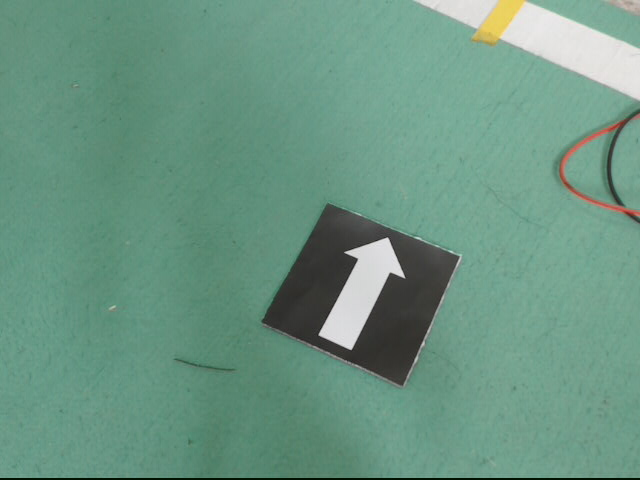straight: (261, 205, 463, 388)
